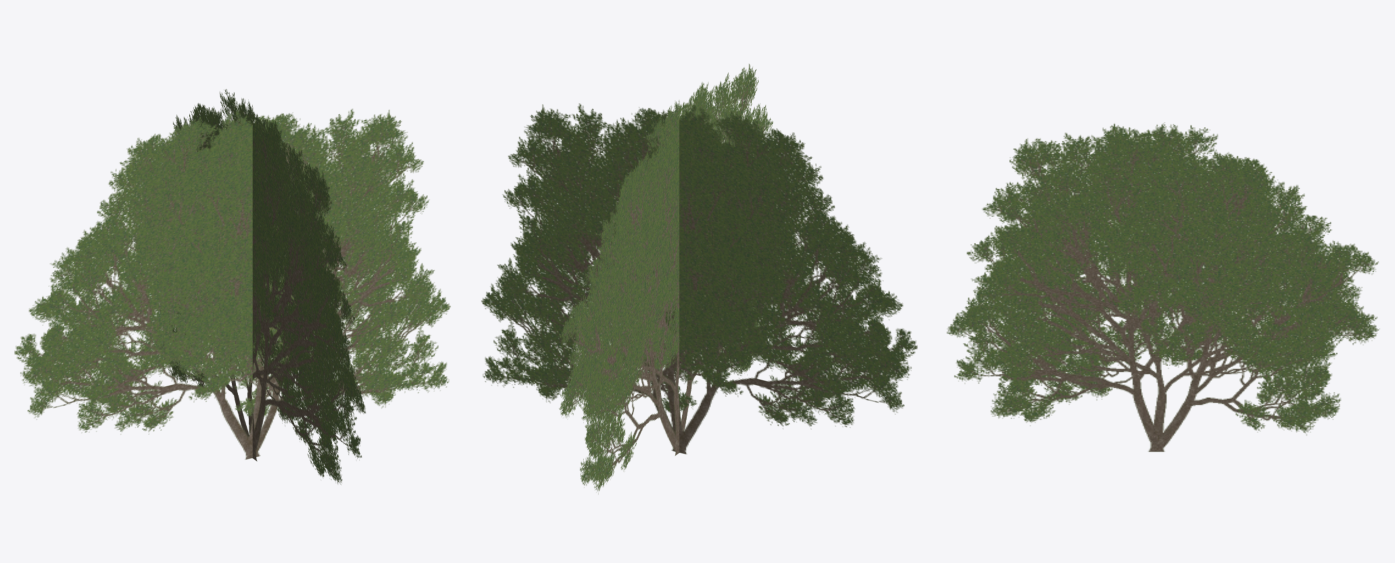
Rendered from FicusBenjamina.glb.
3 renders of one model, left to right at view 1: azimuth 30°, elevation 25°; view 2: azimuth 150°, elevation 25°; view 3: azimuth 270°, elevation 25°, orthographic. The views are drawn at different scales.
Visible parts, largest first — view 1: mesh__mat_billboard_4; view 2: mesh__mat_billboard_4; view 3: mesh__mat_billboard_4.
Part boxes in pixels (x1,y1,x2,y2): mesh__mat_billboard_4: [14, 89, 450, 483]; mesh__mat_billboard_4: [481, 64, 917, 490]; mesh__mat_billboard_4: [946, 122, 1378, 451].
Bounding box in the file's own units: 39.12 × 31.03 × 36.25.
Materials: 1 (1 with a texture image).
